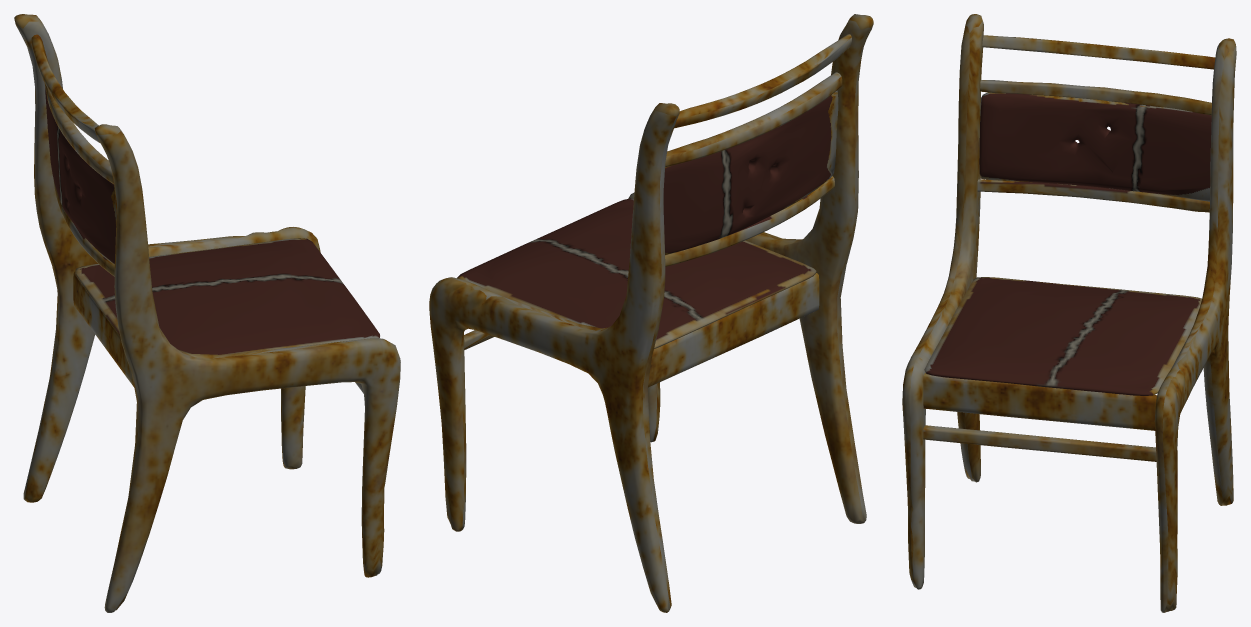
The model's file is silla.fbx.
3 renders of one model, left to right at view 1: azimuth 30°, elevation 25°; view 2: azimuth 150°, elevation 25°; view 3: azimuth 270°, elevation 25°, orthographic. The views are drawn at different scales.
Parts seen in each view (by area): view 1: chair; view 2: chair; view 3: chair.
Part boxes in pixels (box(x1,y1,x2,y2)): chair: box(14, 14, 400, 612); chair: box(429, 14, 873, 612); chair: box(902, 14, 1236, 612).
Size of the model in its own units: 74.02 by 107 by 69.95.
1 material, 1 textured.
